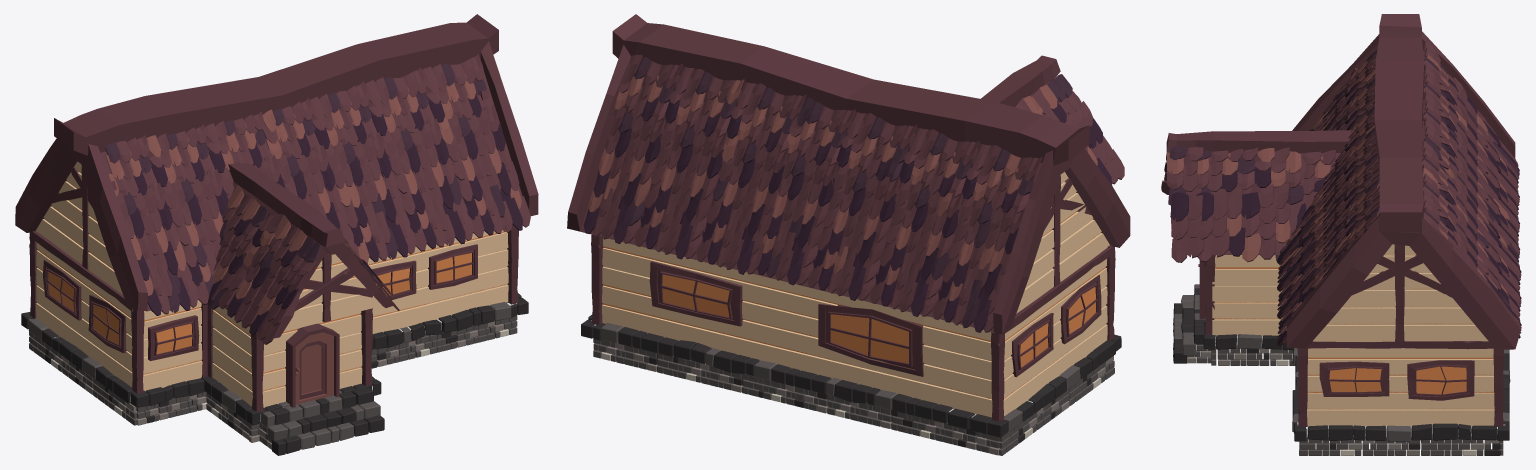
The model's file is casa-madeira14.fbx.
The picture shows the model from 3 angles, left to right: view 1: azimuth 30°, elevation 25°; view 2: azimuth 150°, elevation 25°; view 3: azimuth 270°, elevation 25°; orthographic projection. The views are drawn at different scales.
Visible parts, largest first — view 1: Cube.309, porta.020; view 2: Cube.309; view 3: Cube.309.
Boxes of the visible parts, x1,y1,x2,y2 form: Cube.309: [15, 14, 538, 455]; porta.020: [295, 332, 333, 405]; Cube.309: [567, 14, 1130, 455]; Cube.309: [1161, 14, 1521, 455].
Size of the model in its own units: 1099 by 663 by 847.
